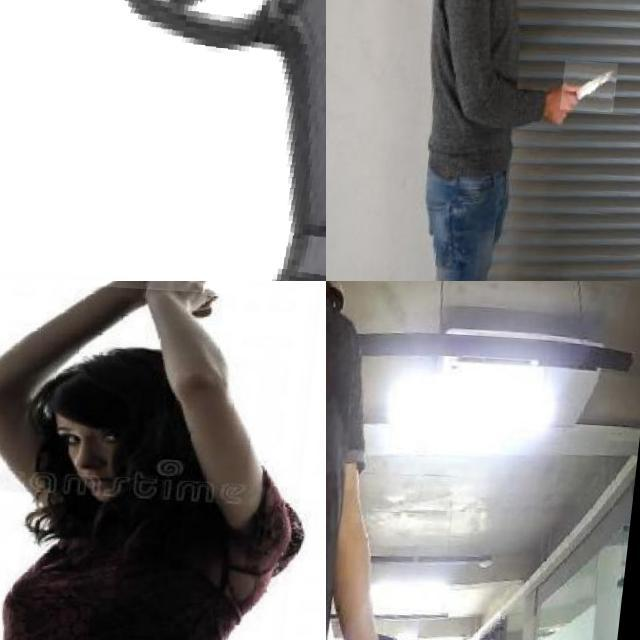-: (14, 281, 251, 346), (569, 56, 626, 108)
gun-knife-thesis - v11 Yolov5 augmented: (0, 0, 326, 281)
